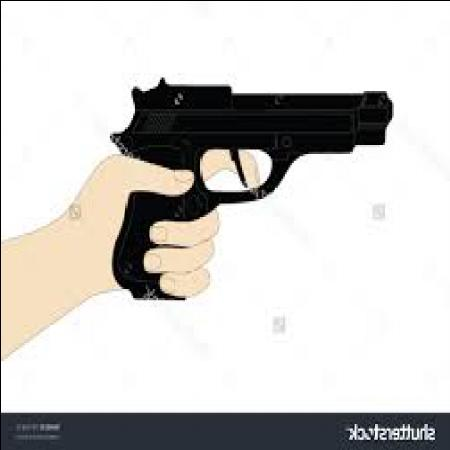Pistol: (109, 67, 395, 297)
